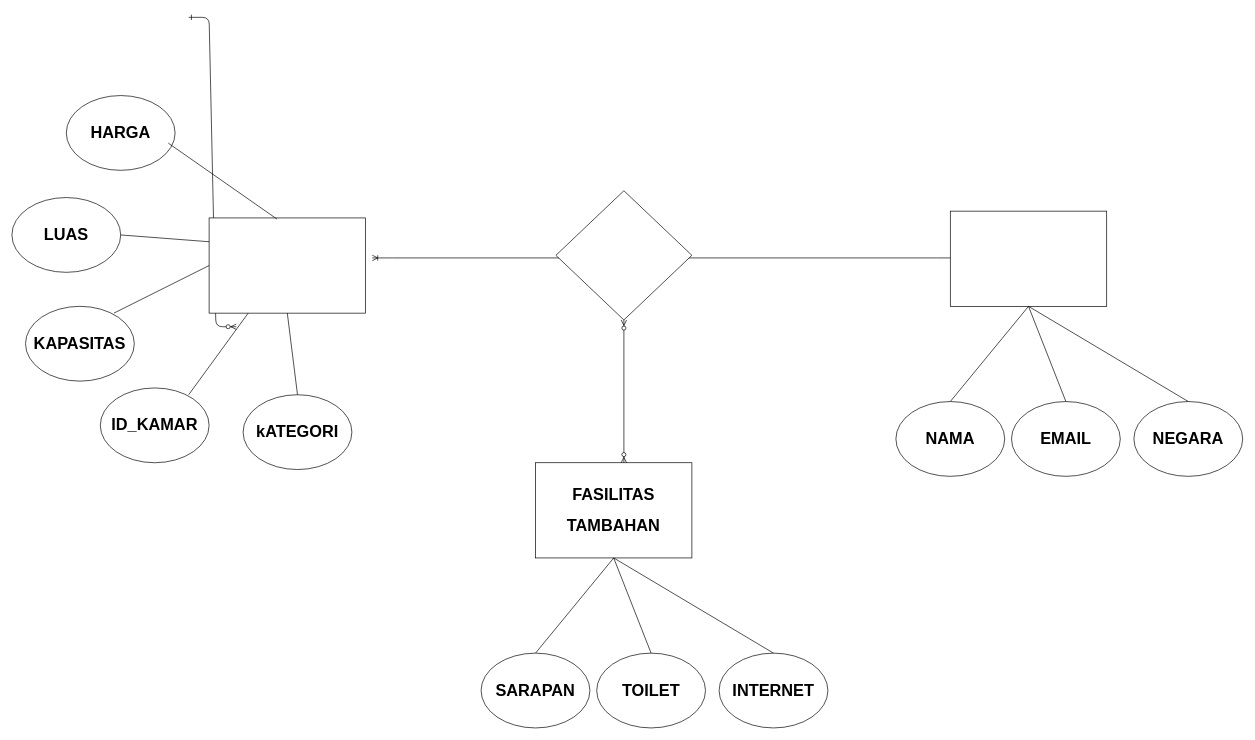
Some shapes in this 1255 by 740 pixel diagram are drawn without their labels. Each missing label, with the box of its shape:
DIPESAN: (555, 190, 692, 320)
Kamar: (208, 217, 366, 313)
PELANGGAN: (950, 210, 1107, 306)
